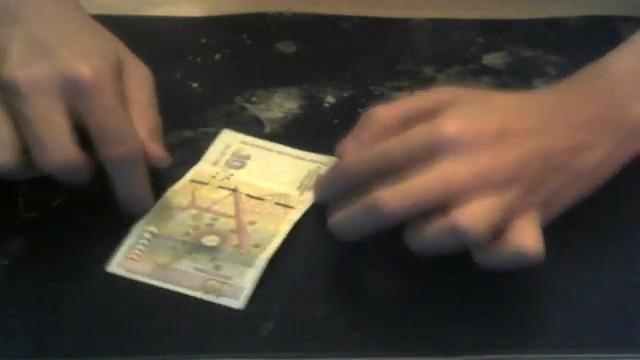10leva: (104, 130, 336, 311)
